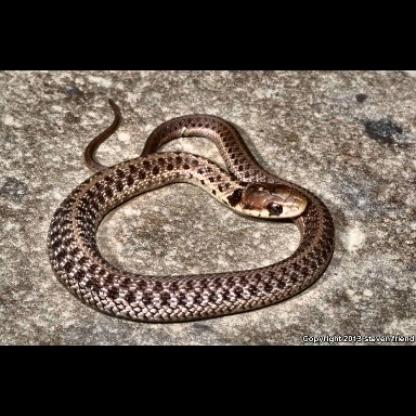Snake: (46, 97, 335, 327)
